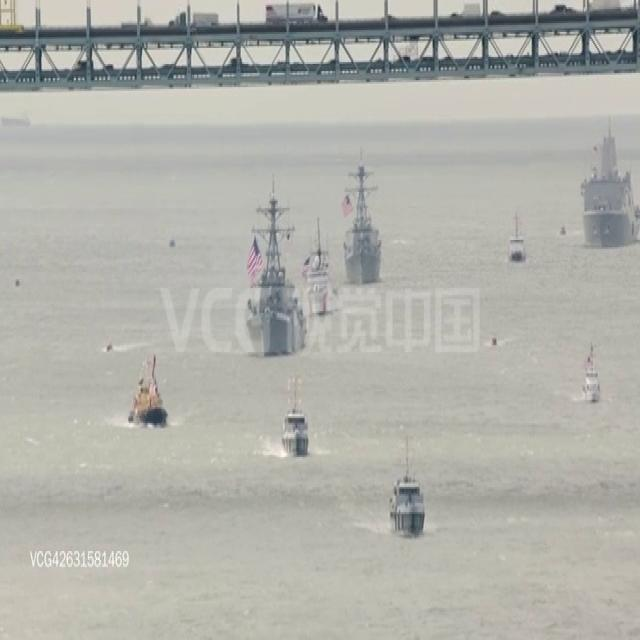houseboat: (388, 430, 427, 533), (126, 350, 167, 430), (308, 219, 337, 311), (279, 372, 310, 457), (506, 204, 528, 265), (583, 343, 603, 399), (489, 331, 498, 352), (104, 339, 115, 355), (168, 238, 177, 252), (559, 227, 568, 236)
navalvessels: (246, 177, 308, 350), (580, 119, 638, 249), (339, 148, 383, 282)
